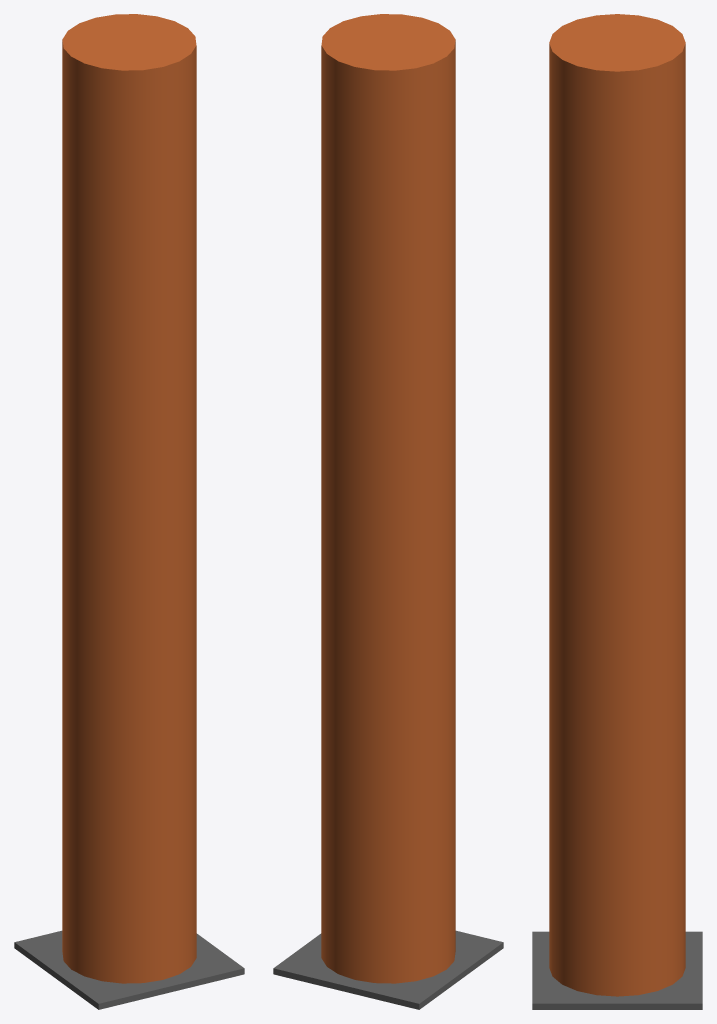
Rendered from OrangePylon.fbx.
3 renders of one model, left to right at view 1: azimuth 30°, elevation 25°; view 2: azimuth 150°, elevation 25°; view 3: azimuth 270°, elevation 25°, orthographic.
Visible parts, largest first — view 1: pCylinder1, pCube1; view 2: pCylinder1, pCube1; view 3: pCylinder1, pCube1.
Part boxes in pixels (bbox=[...]): pCylinder1: bbox=[62, 14, 196, 983]; pCube1: bbox=[14, 930, 244, 1009]; pCylinder1: bbox=[321, 14, 455, 983]; pCube1: bbox=[273, 930, 503, 1009]; pCylinder1: bbox=[549, 14, 685, 996]; pCube1: bbox=[532, 931, 702, 1009].
Bounding box in the file's own units: 0.05 × 0.301 × 0.05.
